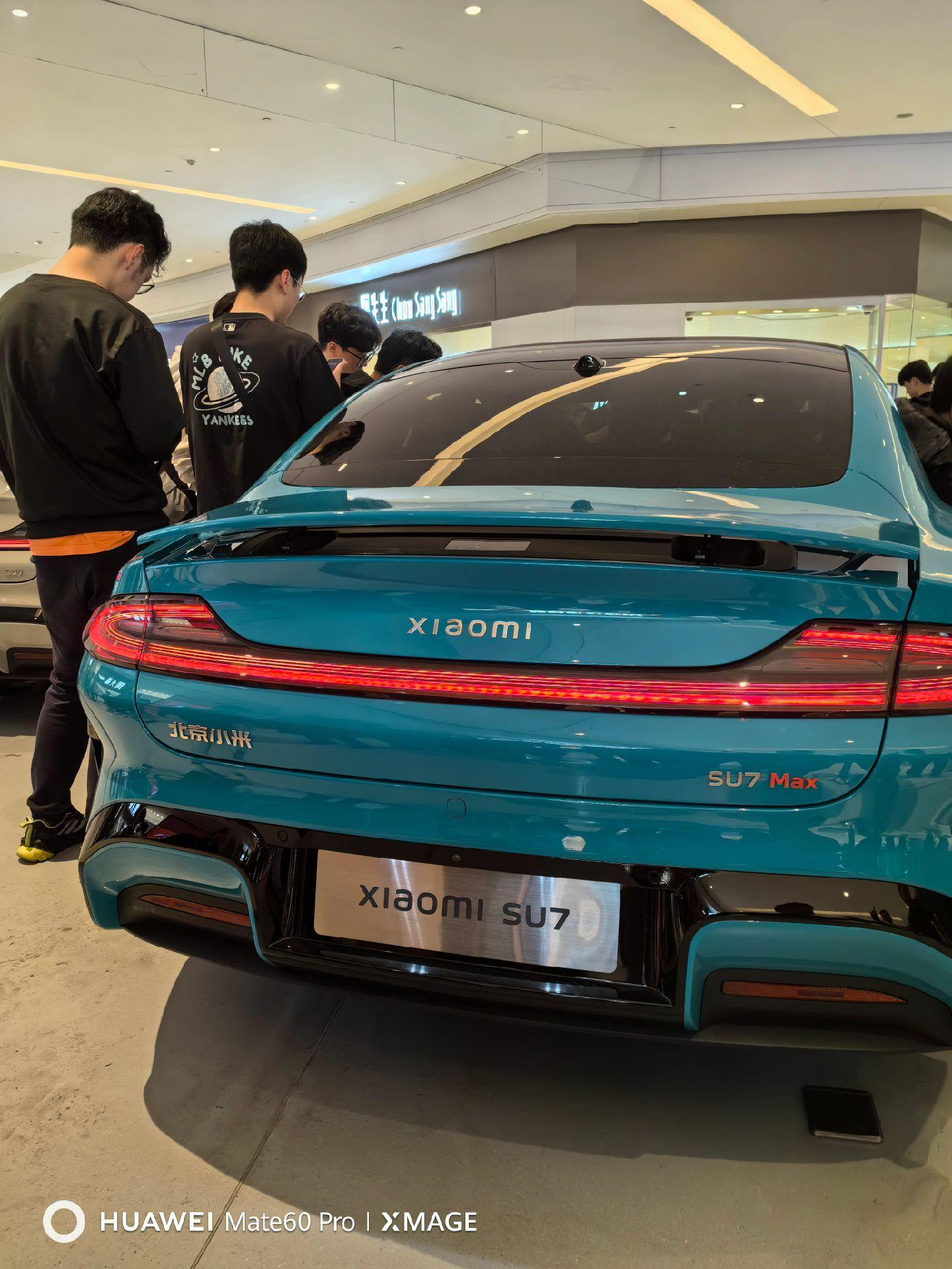su7: (54, 342, 952, 1095)
